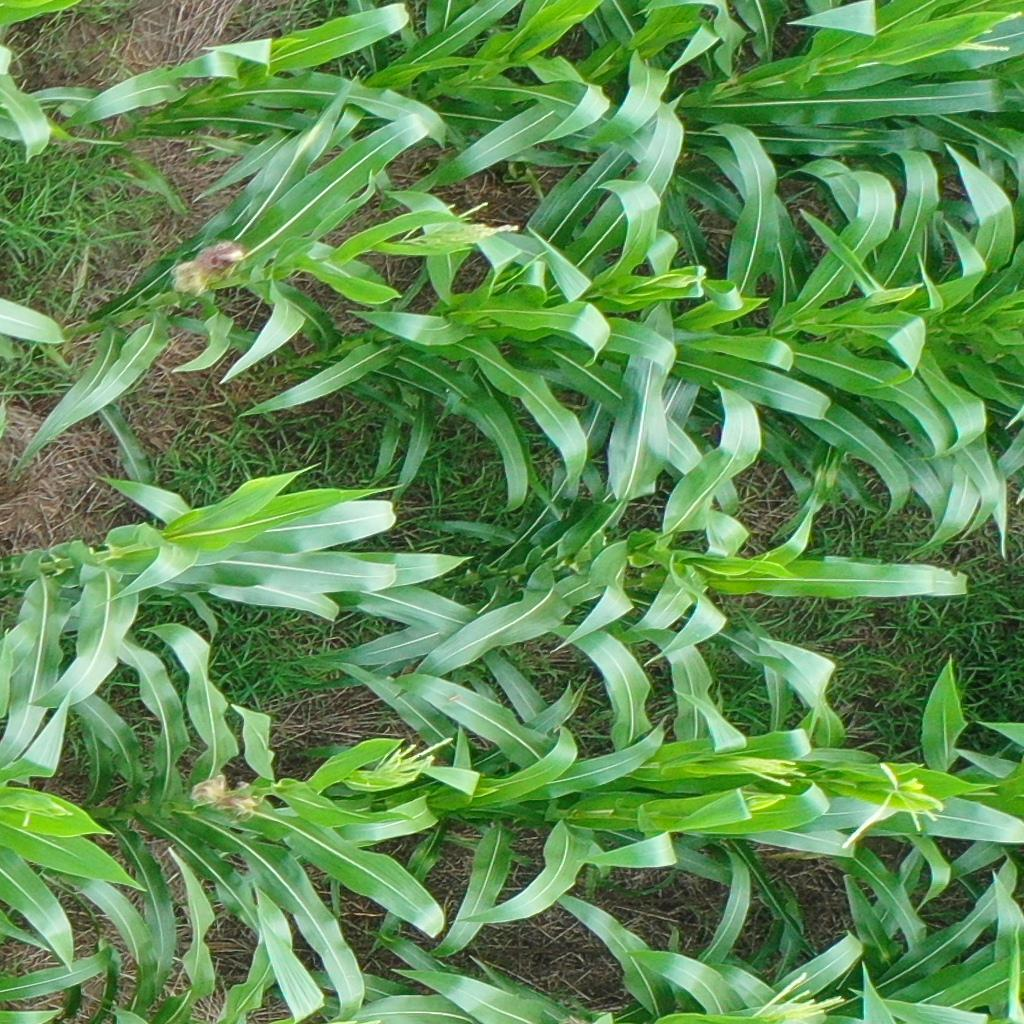Tassel: (841, 755, 950, 852), (400, 197, 520, 255), (751, 972, 846, 1024), (372, 736, 456, 789), (733, 746, 813, 791), (956, 10, 1022, 60)
